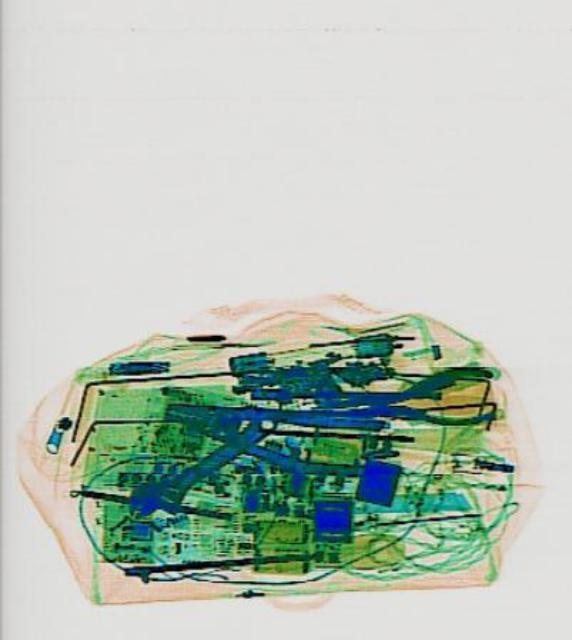Pliers: (158, 372, 382, 486), (309, 360, 492, 438)
Wrench: (117, 397, 282, 527)
